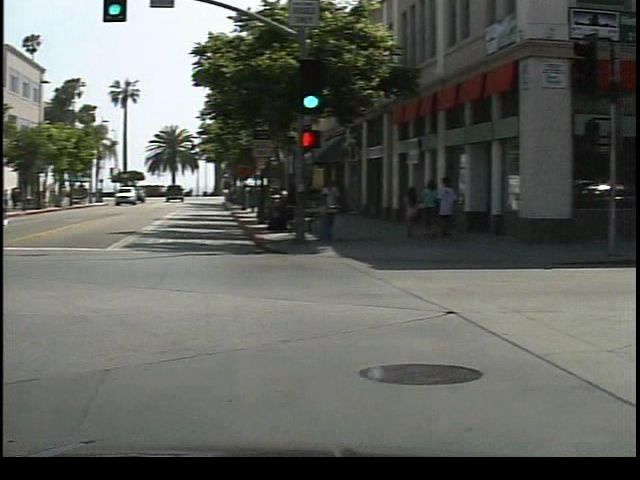person: (327, 176, 355, 233)
